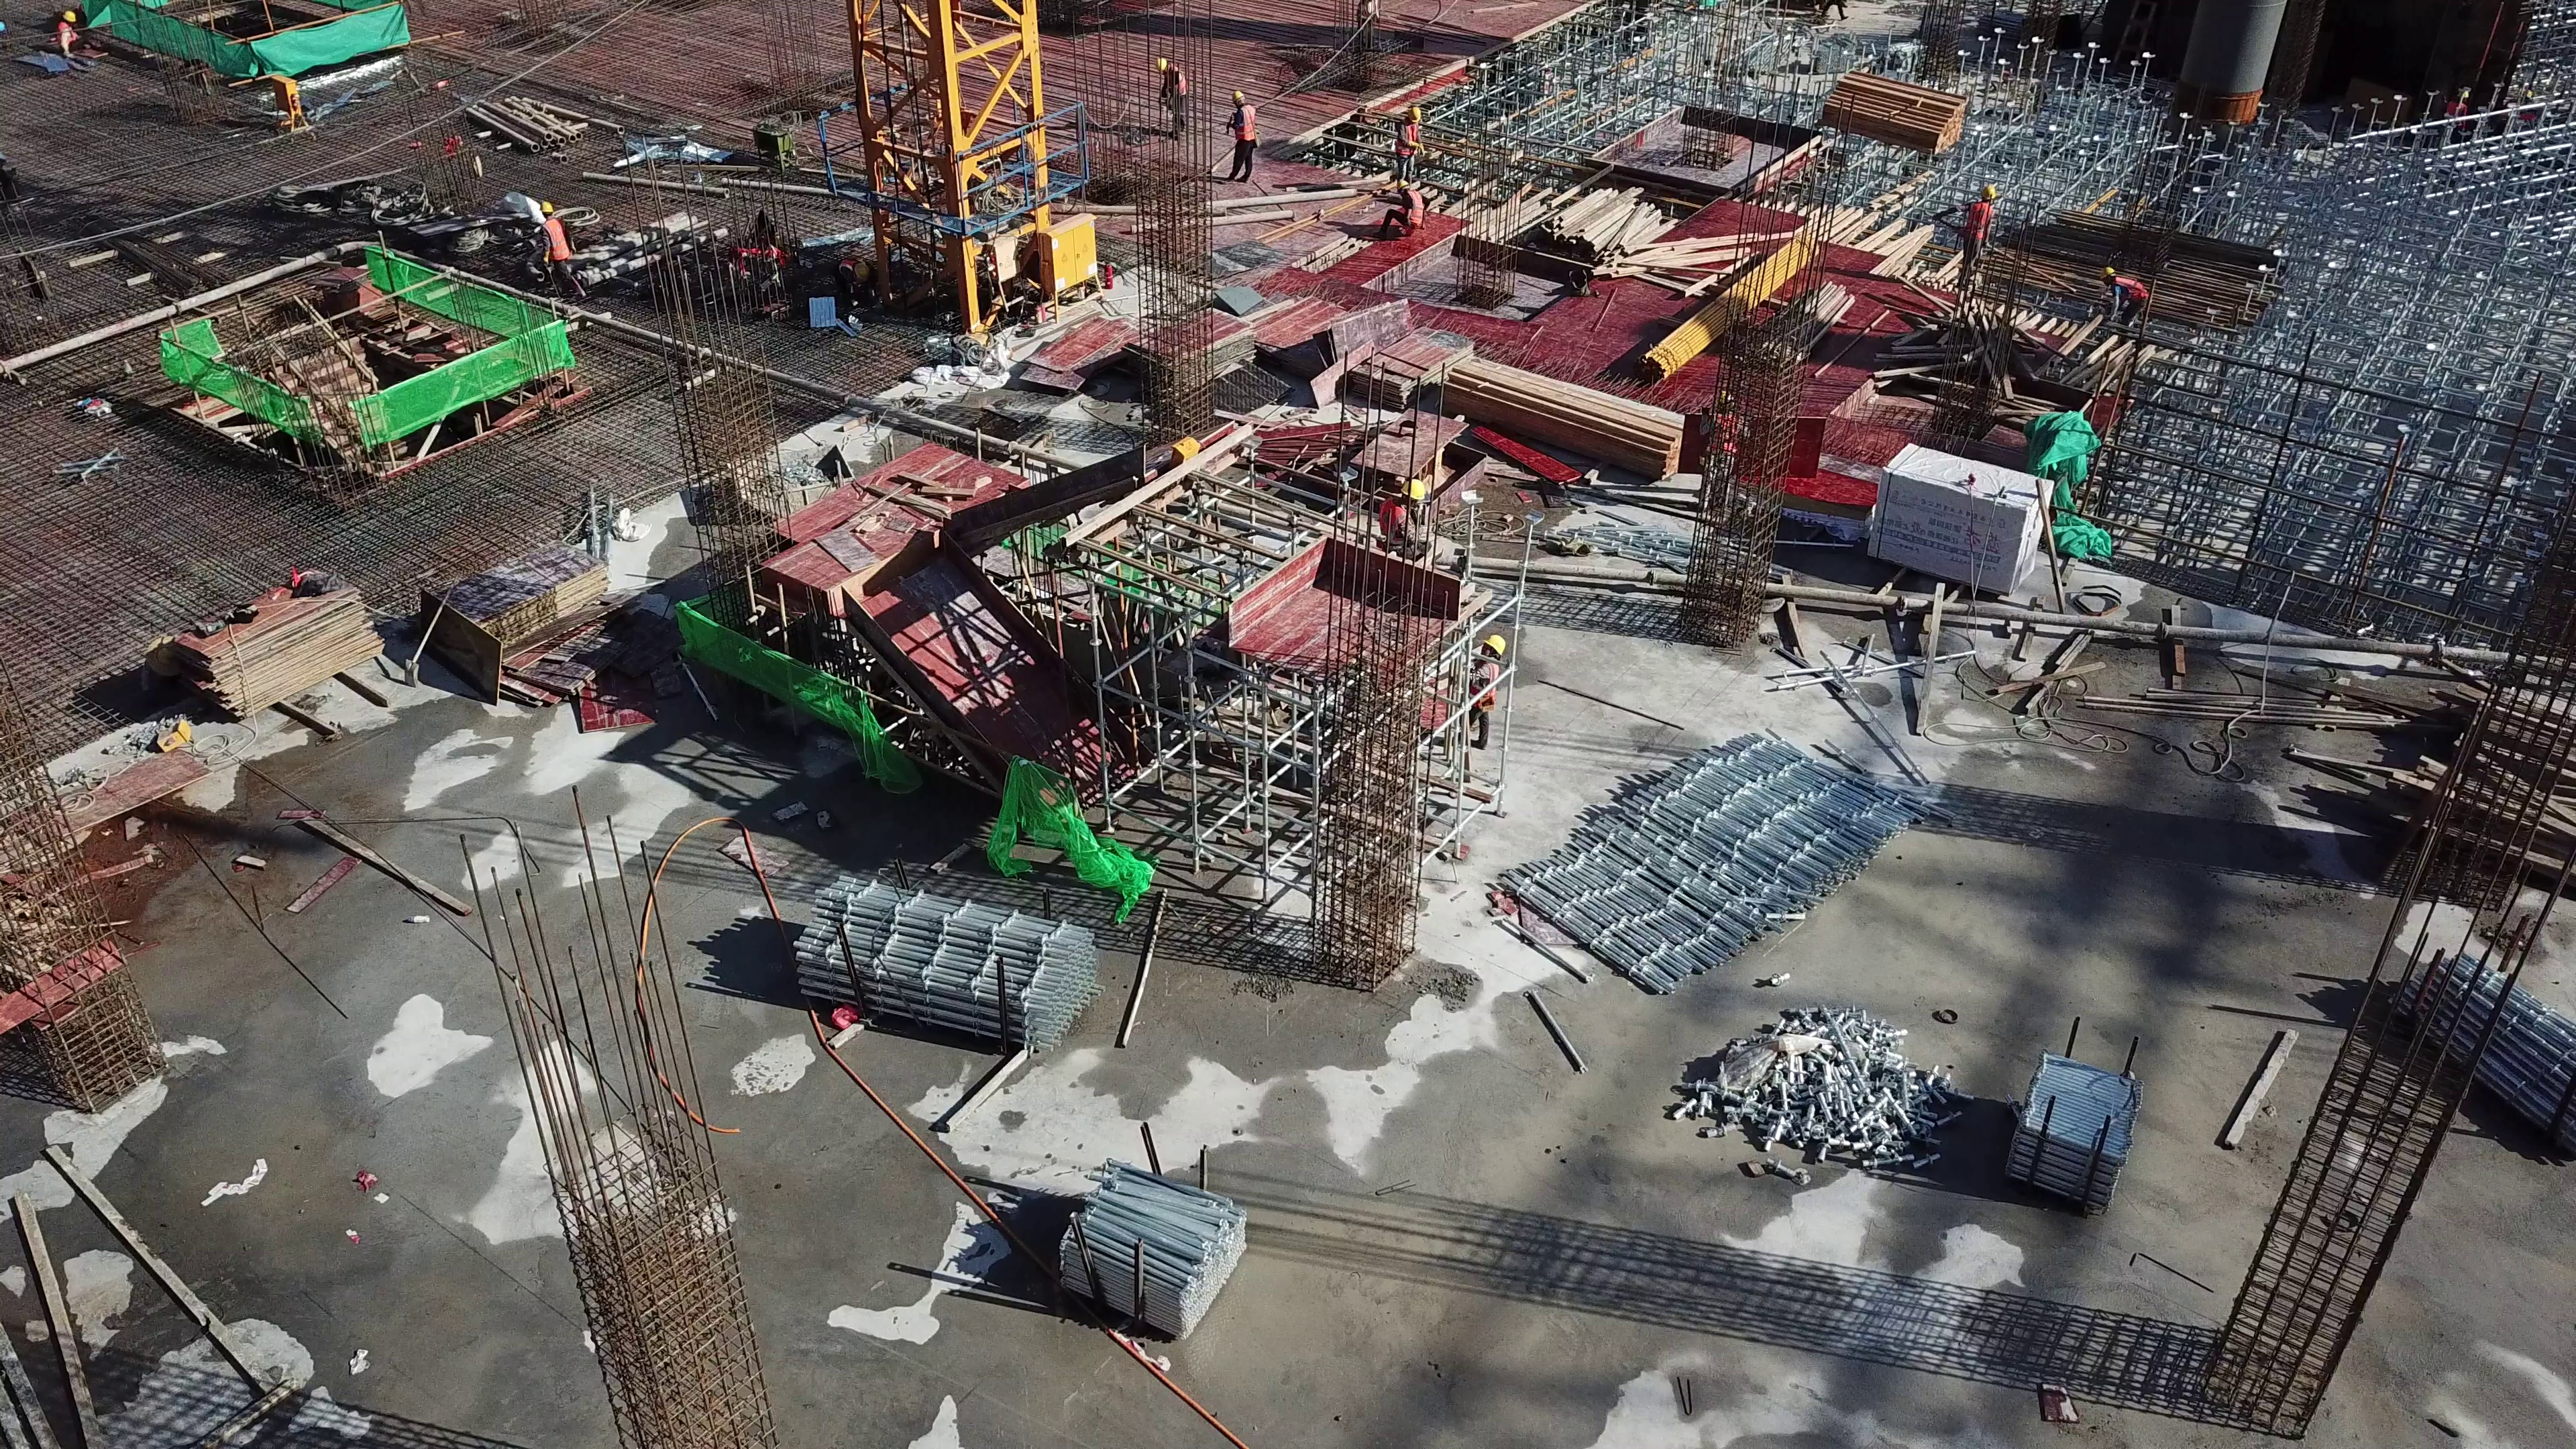board: (423, 529, 609, 712), (163, 590, 379, 724)
person: (533, 199, 586, 307), (2094, 264, 2161, 345), (1216, 91, 1266, 182), (1374, 465, 1429, 541), (1479, 631, 1517, 739), (1960, 173, 1995, 278), (1391, 85, 1420, 188)
scaffold: (1472, 727, 1931, 1007), (784, 864, 1091, 1069), (1053, 1153, 1257, 1346), (2394, 946, 2576, 1162), (2004, 1045, 2147, 1217)
wood: (1446, 351, 1691, 476), (1522, 197, 1747, 290)
